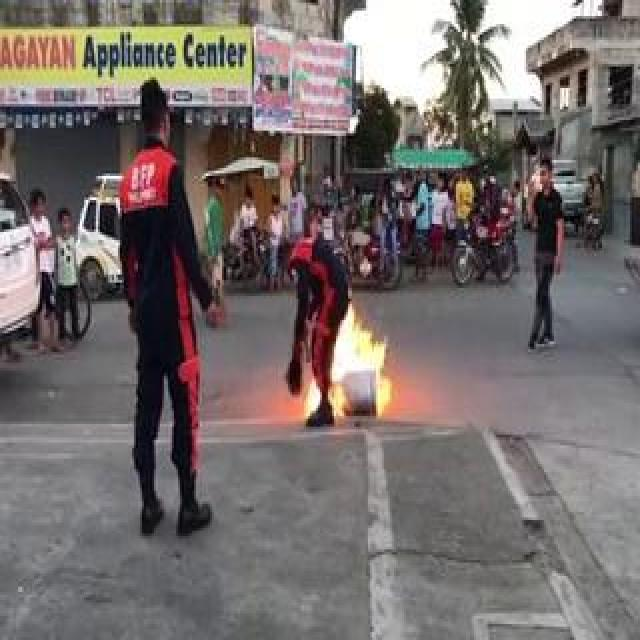Smoke: (305, 298, 395, 394)
